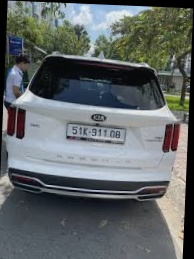Bien-so: (69, 124, 131, 144)
